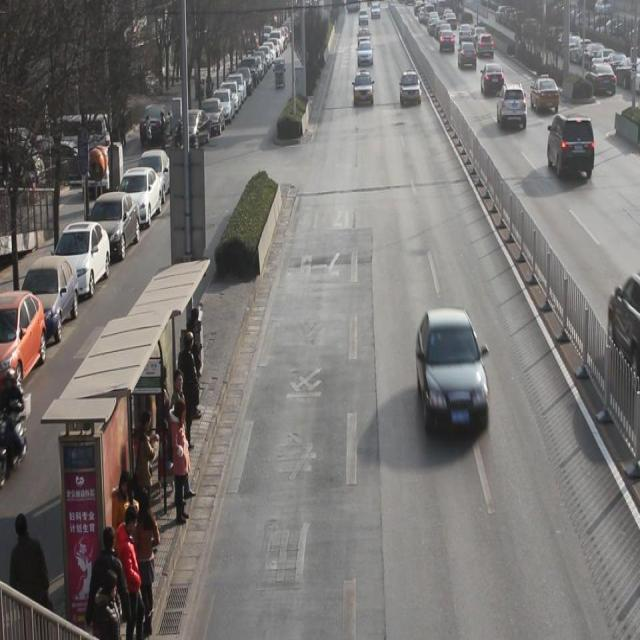car: (416, 306, 491, 437), (548, 111, 595, 181), (498, 81, 528, 130), (585, 62, 618, 98), (531, 73, 560, 113), (480, 62, 506, 98), (400, 70, 421, 108), (354, 72, 374, 107), (458, 40, 477, 70), (357, 39, 374, 70), (477, 32, 494, 58), (440, 28, 455, 54), (459, 23, 472, 45)
